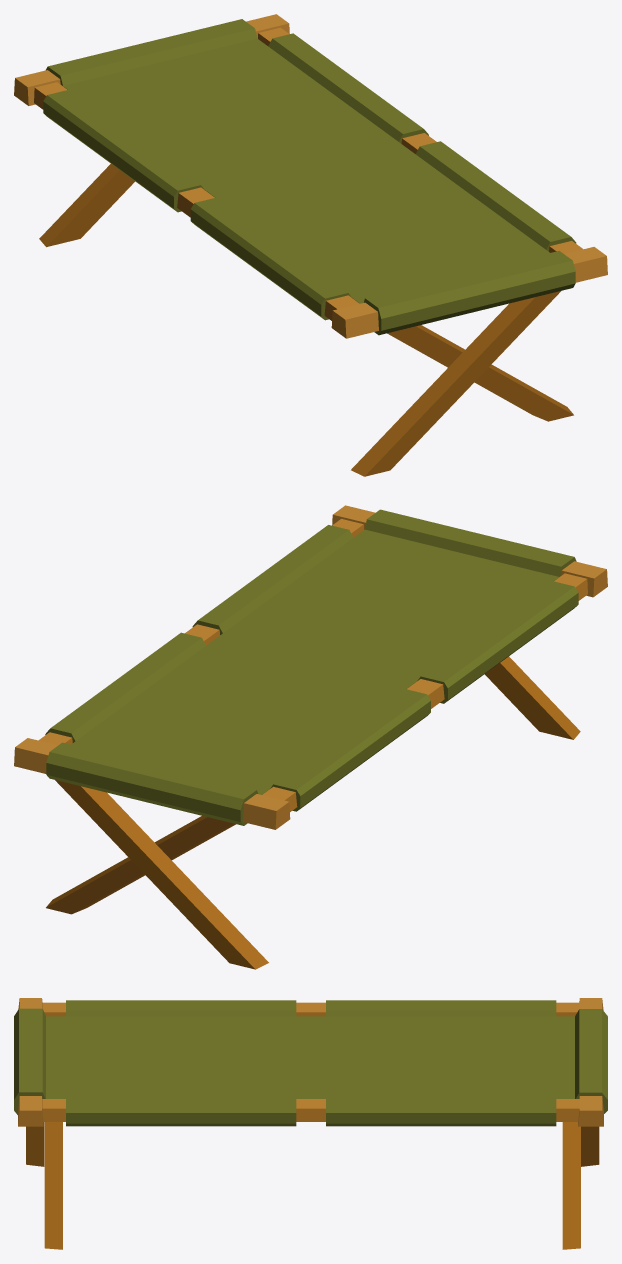
Rendered from SM_Cot.fbx.
3 renders of one model, top to bottom at view 1: azimuth 30°, elevation 25°; view 2: azimuth 150°, elevation 25°; view 3: azimuth 270°, elevation 25°, orthographic. The views are drawn at different scales.
Visible parts, largest first — view 1: SM_Cot; view 2: SM_Cot; view 3: SM_Cot.
Boxes of the visible parts, x1=… form: SM_Cot: x1=14, y1=14, x2=607, y2=476; SM_Cot: x1=14, y1=505, x2=607, y2=969; SM_Cot: x1=14, y1=998, x2=607, y2=1249.
Size of the model in its own units: 89.79 by 55.52 by 200.
